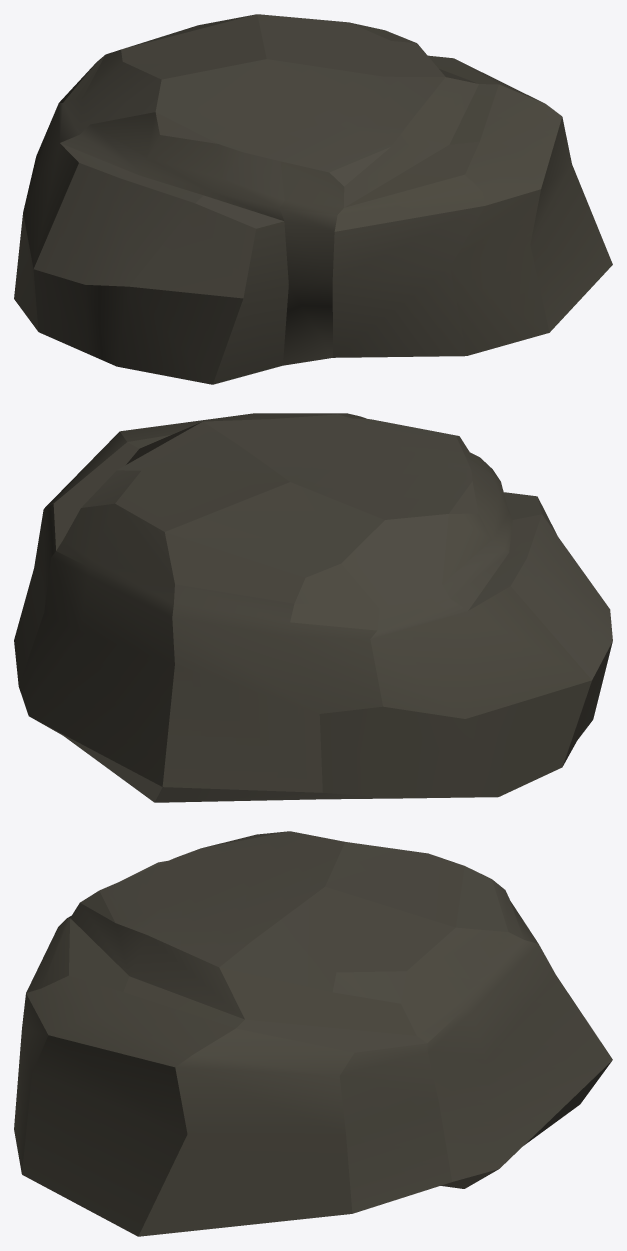
Rendered from Rock_Large_1.obj.
3 views of the same model, one above another, from view 1: azimuth 30°, elevation 25°; view 2: azimuth 150°, elevation 25°; view 3: azimuth 270°, elevation 25° (orthographic). The views are drawn at different scales.
Visible parts, largest first — view 1: Rock_Large_1_Cube.026; view 2: Rock_Large_1_Cube.026; view 3: Rock_Large_1_Cube.026.
Boxes of the visible parts, x1=… form: Rock_Large_1_Cube.026: x1=14, y1=14, x2=612, y2=384; Rock_Large_1_Cube.026: x1=14, y1=413, x2=612, y2=802; Rock_Large_1_Cube.026: x1=14, y1=831, x2=612, y2=1236.
Size of the model in its own units: 7.67 by 3.29 by 7.33.
Materials: 1 (1 with a texture image).
